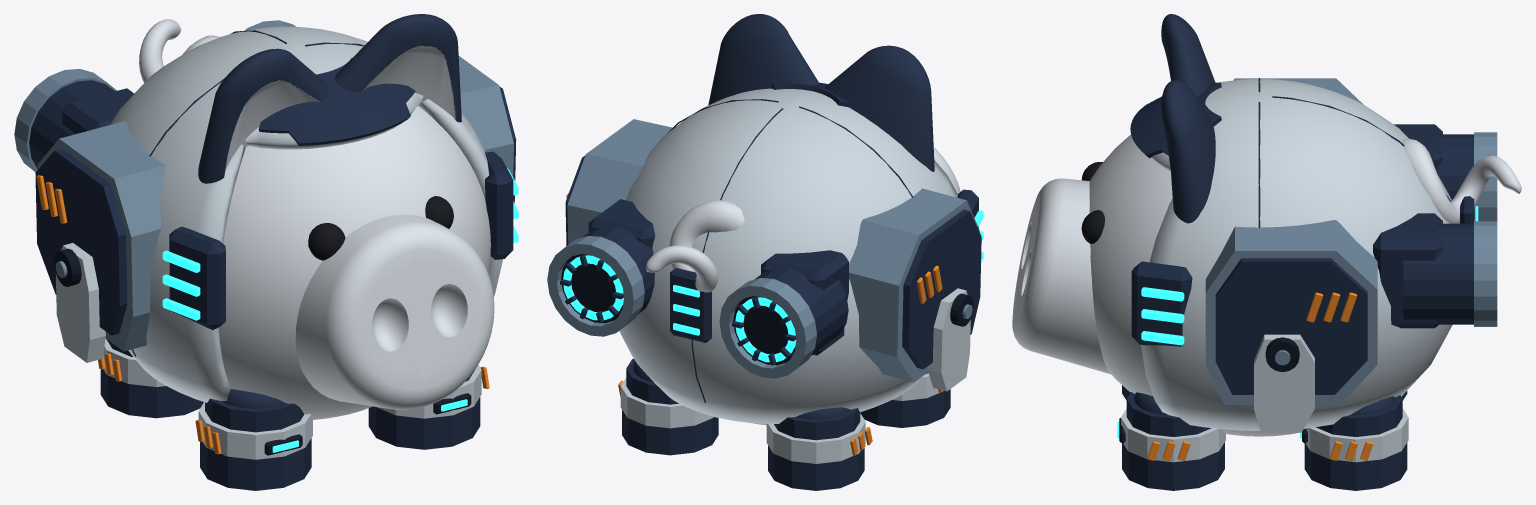
File: mechaplayer-arcade-v3-complete.fbx
3 renders of one model, left to right at view 1: azimuth 30°, elevation 25°; view 2: azimuth 150°, elevation 25°; view 3: azimuth 270°, elevation 25°, orthographic. The views are drawn at different scales.
Parts seen in each view (by area): view 1: Body, Snout, MechContinuousBackArmor, Ears, MechShoulderFrame_-1, MechShoulderNavy_-1, MechForeheadConnectedPlate, MechVentRecess_-1, MechLowerGuard_-1, MechBootSole_1_0, MechBootSole_-1_0, MechShoulderFrame_1 (+13 smaller); view 2: MechContinuousBackArmor, Ears, MechShoulderFrame_-1, MechShoulderNavy_-1, MechShoulderFrame_1, MechThrusterLip_1, MechThrusterLip_-1, Tail, MechLowerGuard_-1, MechThrusterBody_-1, MechBootSole_-1_1, MechBootSole_1_1 (+19 smaller); view 3: MechContinuousBackArmor, MechShoulderNavy_1, Body, Snout, MechShoulderFrame_1, Ears, MechThrusterBody_1, MechLowerGuard_1, MechThrusterMount_1, MechVentRecess_1, Tail, MechBootSole_1_1 (+14 smaller).
Boxes of the visible parts, x1,y1,x2,y2 form: Body: [219, 106, 490, 419]; Snout: [295, 214, 494, 409]; MechContinuousBackArmor: [111, 26, 502, 402]; Ears: [198, 14, 461, 183]; MechShoulderFrame_-1: [37, 121, 165, 351]; MechShoulderNavy_-1: [35, 148, 127, 335]; MechForeheadConnectedPlate: [258, 58, 415, 145]; MechVentRecess_-1: [169, 226, 225, 329]; MechLowerGuard_-1: [55, 243, 105, 362]; MechBootSole_1_0: [368, 397, 480, 449]; MechBootSole_-1_0: [200, 438, 311, 490]; MechShoulderFrame_1: [458, 56, 513, 176]; MechContinuousBackArmor: [619, 88, 958, 424]; Ears: [708, 14, 934, 171]; MechShoulderFrame_-1: [849, 188, 979, 382]; MechShoulderNavy_-1: [902, 209, 981, 369]; MechShoulderFrame_1: [567, 119, 672, 244]; MechThrusterLip_1: [547, 236, 644, 336]; MechThrusterLip_-1: [719, 278, 816, 378]; Tail: [646, 200, 744, 292]; MechLowerGuard_-1: [927, 288, 970, 391]; MechThrusterBody_-1: [754, 267, 848, 355]; MechBootSole_-1_1: [768, 445, 864, 490]; MechBootSole_1_1: [622, 410, 718, 455]; MechContinuousBackArmor: [1141, 78, 1452, 430]; MechShoulderNavy_1: [1215, 258, 1367, 394]; Body: [1089, 134, 1306, 436]; Snout: [1012, 178, 1110, 374]; MechShoulderFrame_1: [1205, 220, 1377, 404]; Ears: [1161, 14, 1215, 223]; MechThrusterBody_1: [1403, 223, 1473, 324]; MechLowerGuard_1: [1254, 334, 1314, 432]; MechThrusterMount_1: [1373, 213, 1442, 328]; MechVentRecess_1: [1131, 261, 1192, 346]; Tail: [1402, 138, 1521, 223]; MechBootSole_1_1: [1304, 442, 1407, 490].
Bounding box in the file's own units: 1573 × 1406 × 1708.
Materials: 9 (2 with a texture image).
